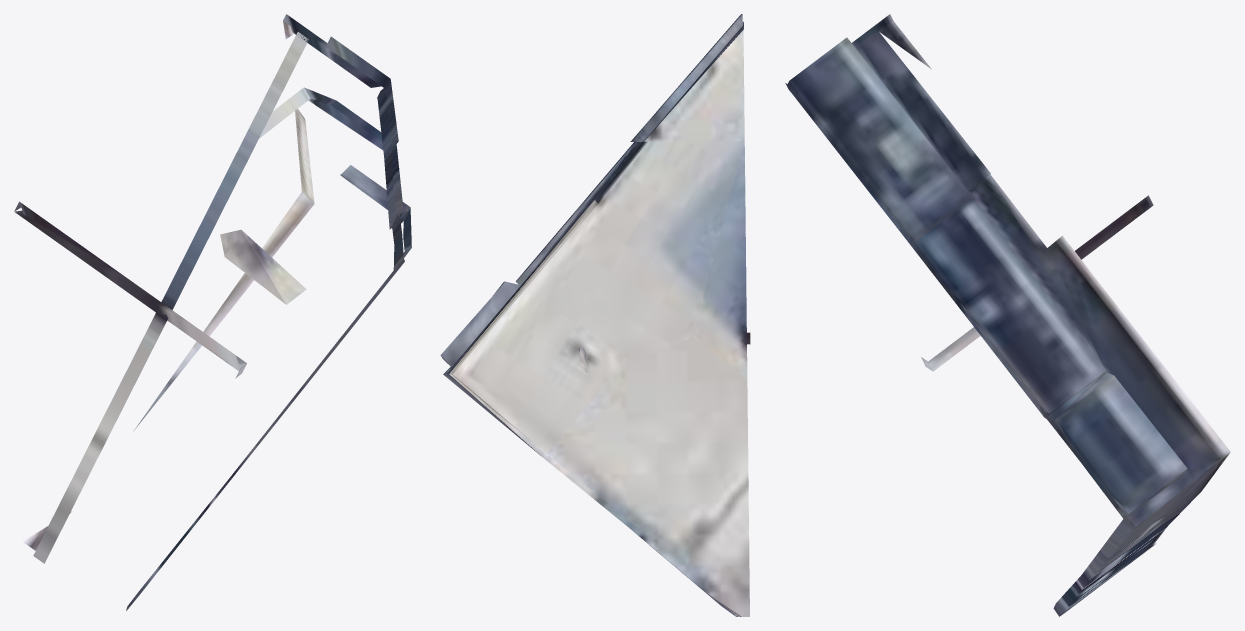
3 renders of one model, left to right at view 1: azimuth 30°, elevation 25°; view 2: azimuth 150°, elevation 25°; view 3: azimuth 270°, elevation 25°, orthographic. The views are drawn at different scales.
Size of the model in its own units: 14.66 by 23.31 by 14.72.
1 material, 1 textured.
